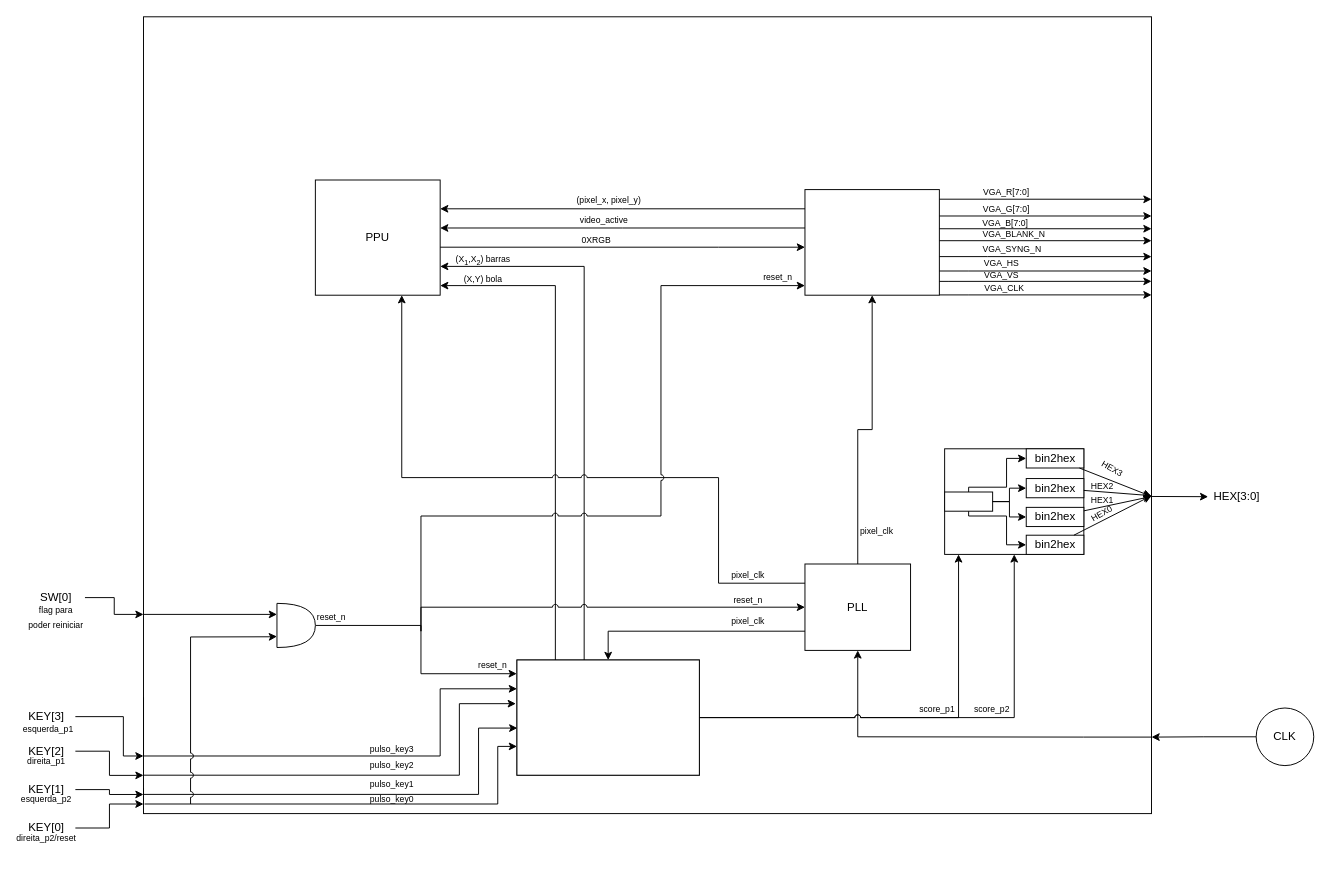
This 1331x869 diagram has some shape labels left out. Each missing label, with the box of its shape:
bin2bcd: (944, 491, 993, 511)
game_logic: (516, 659, 699, 775)
VGA: (804, 189, 939, 295)
